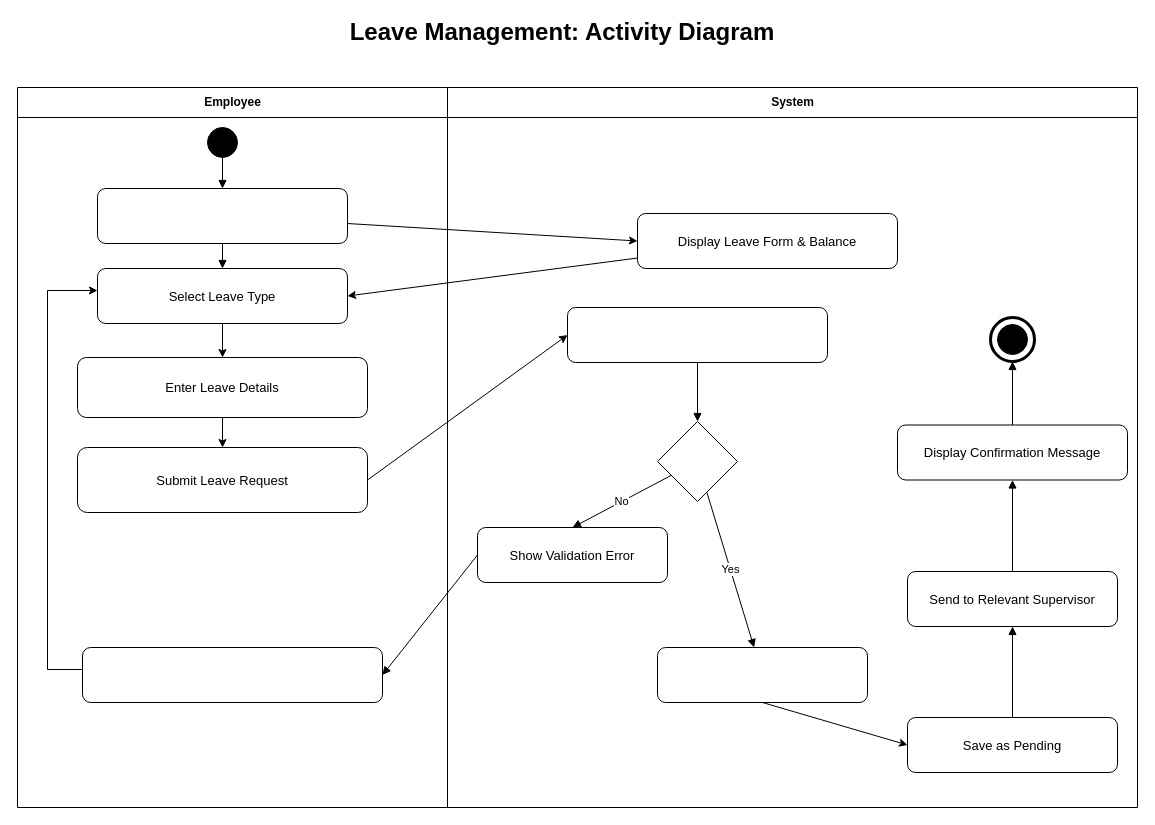
This 1155x825 diagram has some shape labels left out. Here are the shapes that lost their labels. From the top down, the centre of each, then its label:
(222,216): Open Leave Management
(697,334): Validate Leave Request
(697,461): Valid?
(232,674): Correct Leave Details
(762,674): Assign Request & Supervisor
